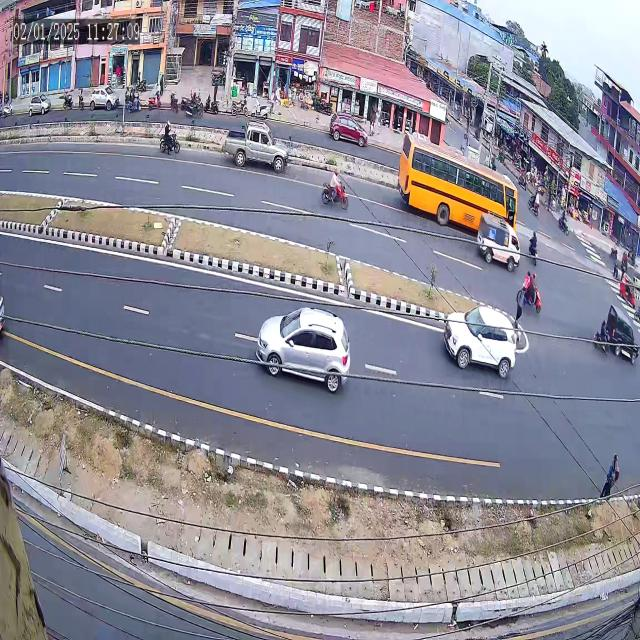car: (246, 290, 367, 416), (438, 304, 520, 395)
motorcycle: (319, 155, 350, 219), (152, 114, 183, 163), (513, 273, 552, 309), (527, 222, 544, 266)
van: (473, 212, 525, 276)
